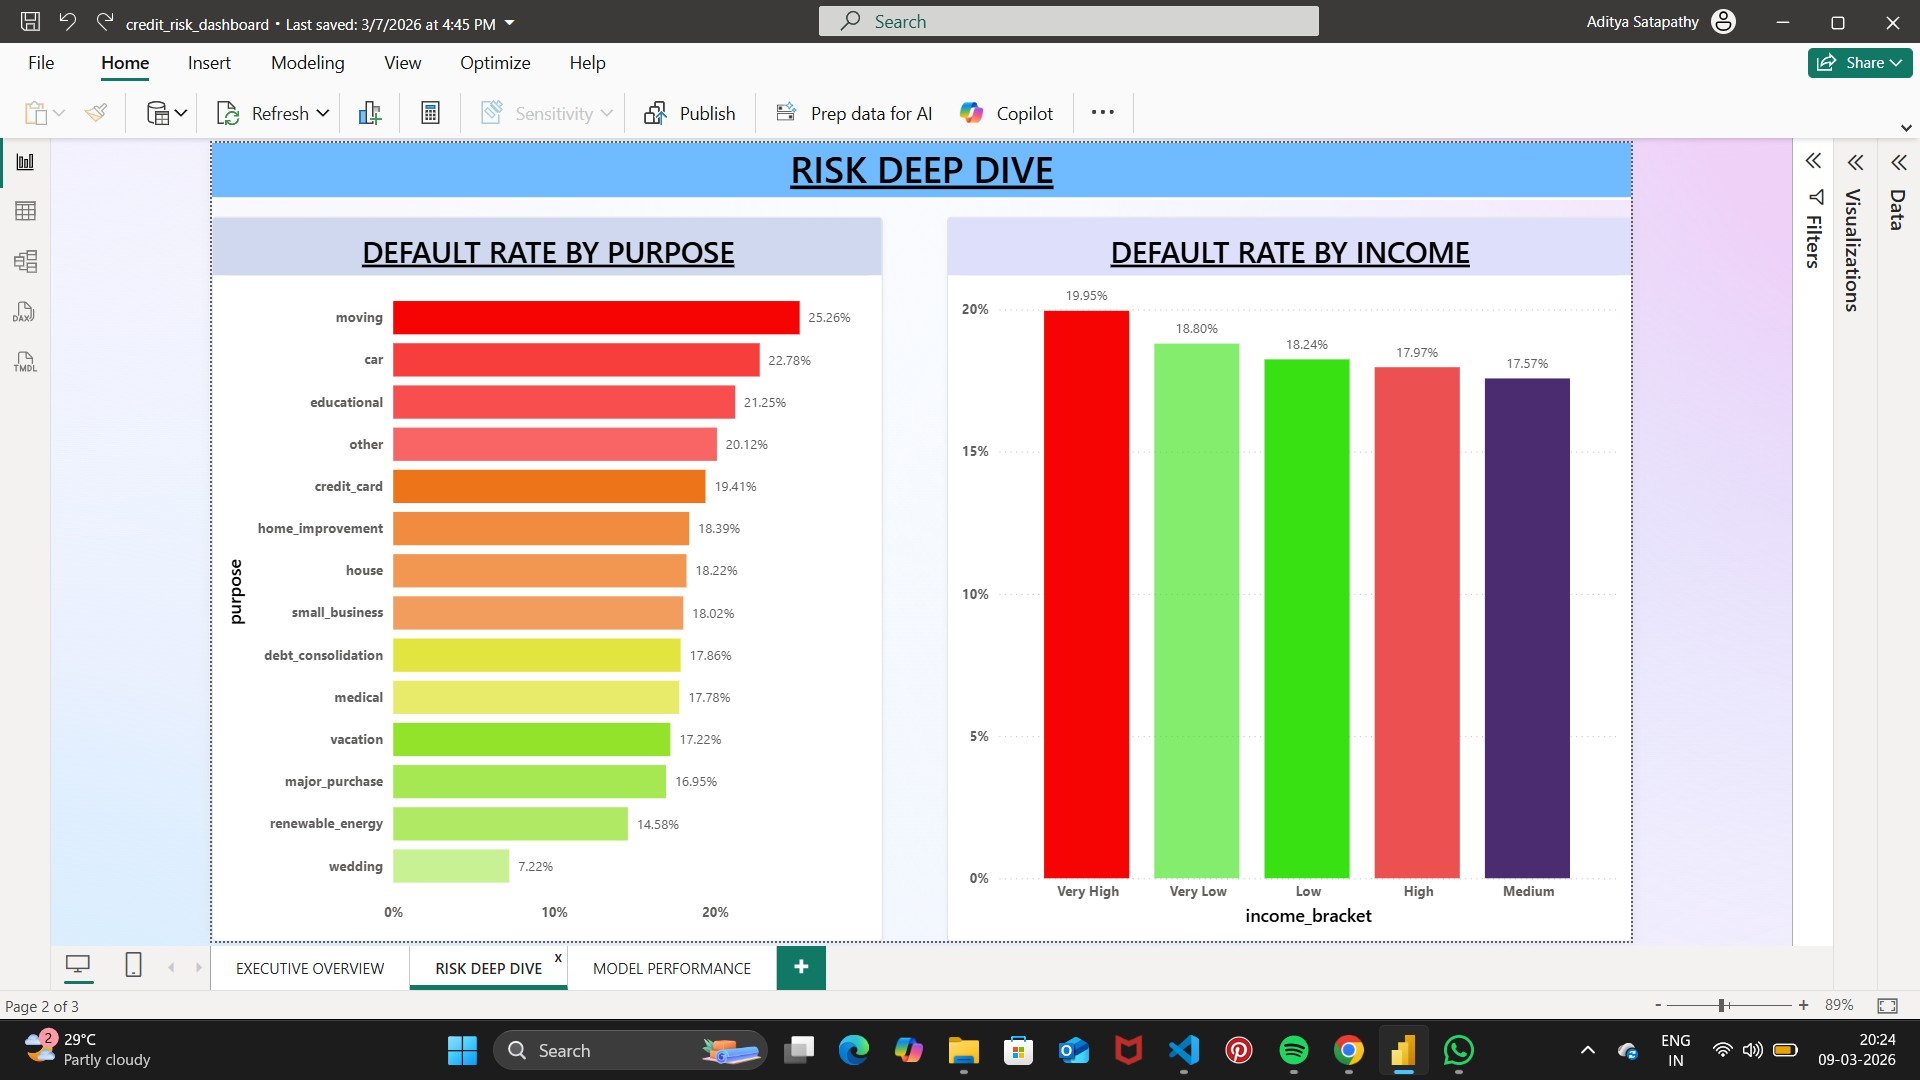

The dashboard page shown, as its layout file describes it:
{"tool":"powerbi","page":{"name":"RISK DEEP DIVE","canvas":[1280,720],"ordinal":1},"visuals":[{"type":"clusteredBarChart","title":"DEFAULT RATE BY PURPOSE","fields":{"Category":["dashboard_data.purpose"],"Y":["Avg(dashboard_data.is_default)"]},"box":[0,66.3,604.7,653.5],"z":0},{"type":"clusteredColumnChart","title":"DEFAULT RATE BY INCOME","fields":{"Category":["dashboard_data.income_bracket"],"Y":["Avg(dashboard_data.is_default)"]},"box":[662.8,66.3,617.4,653.5],"z":1000},{"type":"textbox","title":"RISK DEEP DIVE","box":[0,0,1280.2,51.2],"z":2000}]}

Visuals, with their boxes on the page's 1280x720 design canvas (x1, y1, x2, y2). These are canvas units, not pixel positions in the 1920x1080 screenshot, which may show the page scaled, cropped or inside an application window:
"DEFAULT RATE BY PURPOSE" clusteredBarChart: 0,66,605,720
"DEFAULT RATE BY INCOME" clusteredColumnChart: 663,66,1280,720
"RISK DEEP DIVE" textbox: 0,0,1280,51
